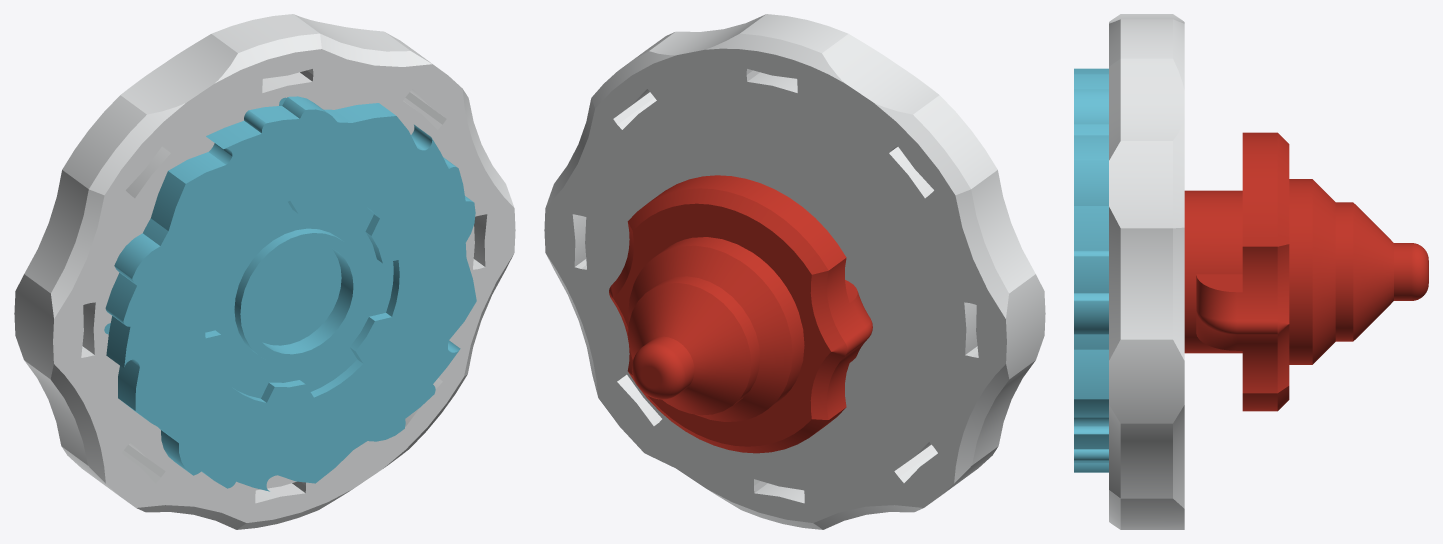
File: Spyn game Bey.fbx
3 views of the same model, side by side, from view 1: azimuth 30°, elevation 25°; view 2: azimuth 150°, elevation 25°; view 3: azimuth 270°, elevation 25° (orthographic). The views are drawn at different scales.
Visible parts, largest first — view 1: Body6, Body4; view 2: Body4, Body3; view 3: Body3, Body4, Body6.
Part boxes in pixels (x1,y1,x2,y2): Body6: (104, 96, 476, 491); Body4: (14, 14, 515, 529); Body4: (544, 14, 1045, 529); Body3: (609, 175, 872, 453); Body3: (1184, 132, 1428, 411); Body4: (1109, 14, 1184, 529); Body6: (1074, 68, 1108, 472).
Bounding box in the file's own units: 45 × 45 × 30.5.
